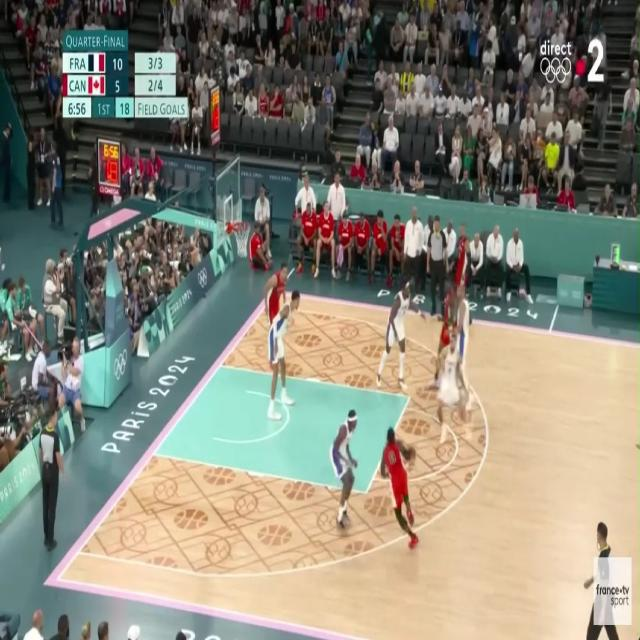ball_handler: (377, 424, 424, 554)
